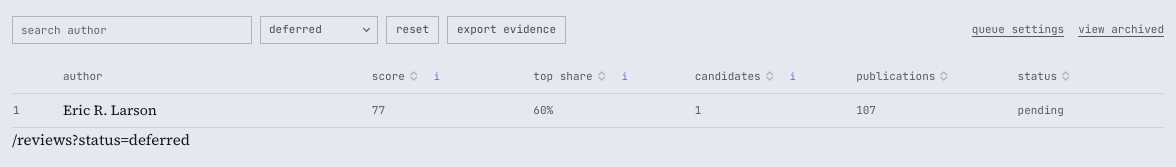
Test case: preserves the status filter when debounced search updates the URL
Check: the column heading "Eric R. Larson" is shown, box [62,99,357,122]
Type "Eric" into the search field named "Search reviews" at (132,30), box [12,16,252,44]
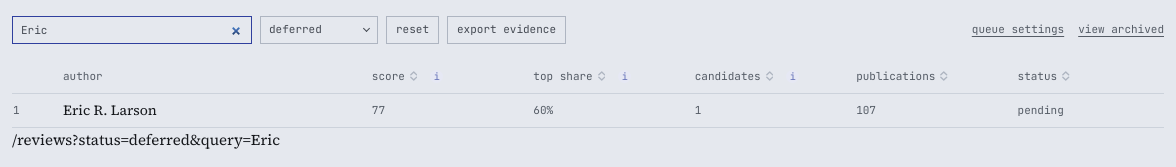
Check: the text with test id "location" shows "status=deferred", box [72,129,280,150]
Check: the text with test id "location" shows "query=Eric", box [72,129,280,150]
